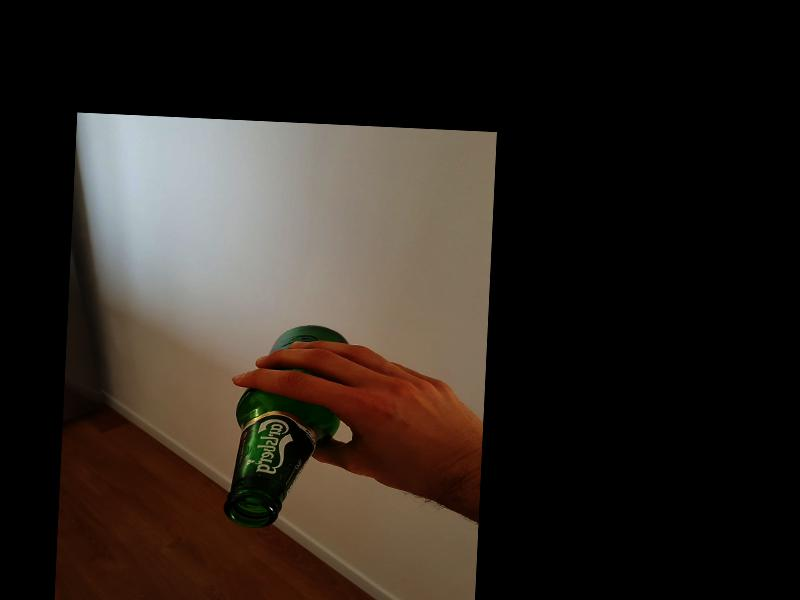Beer: (224, 322, 344, 532)
